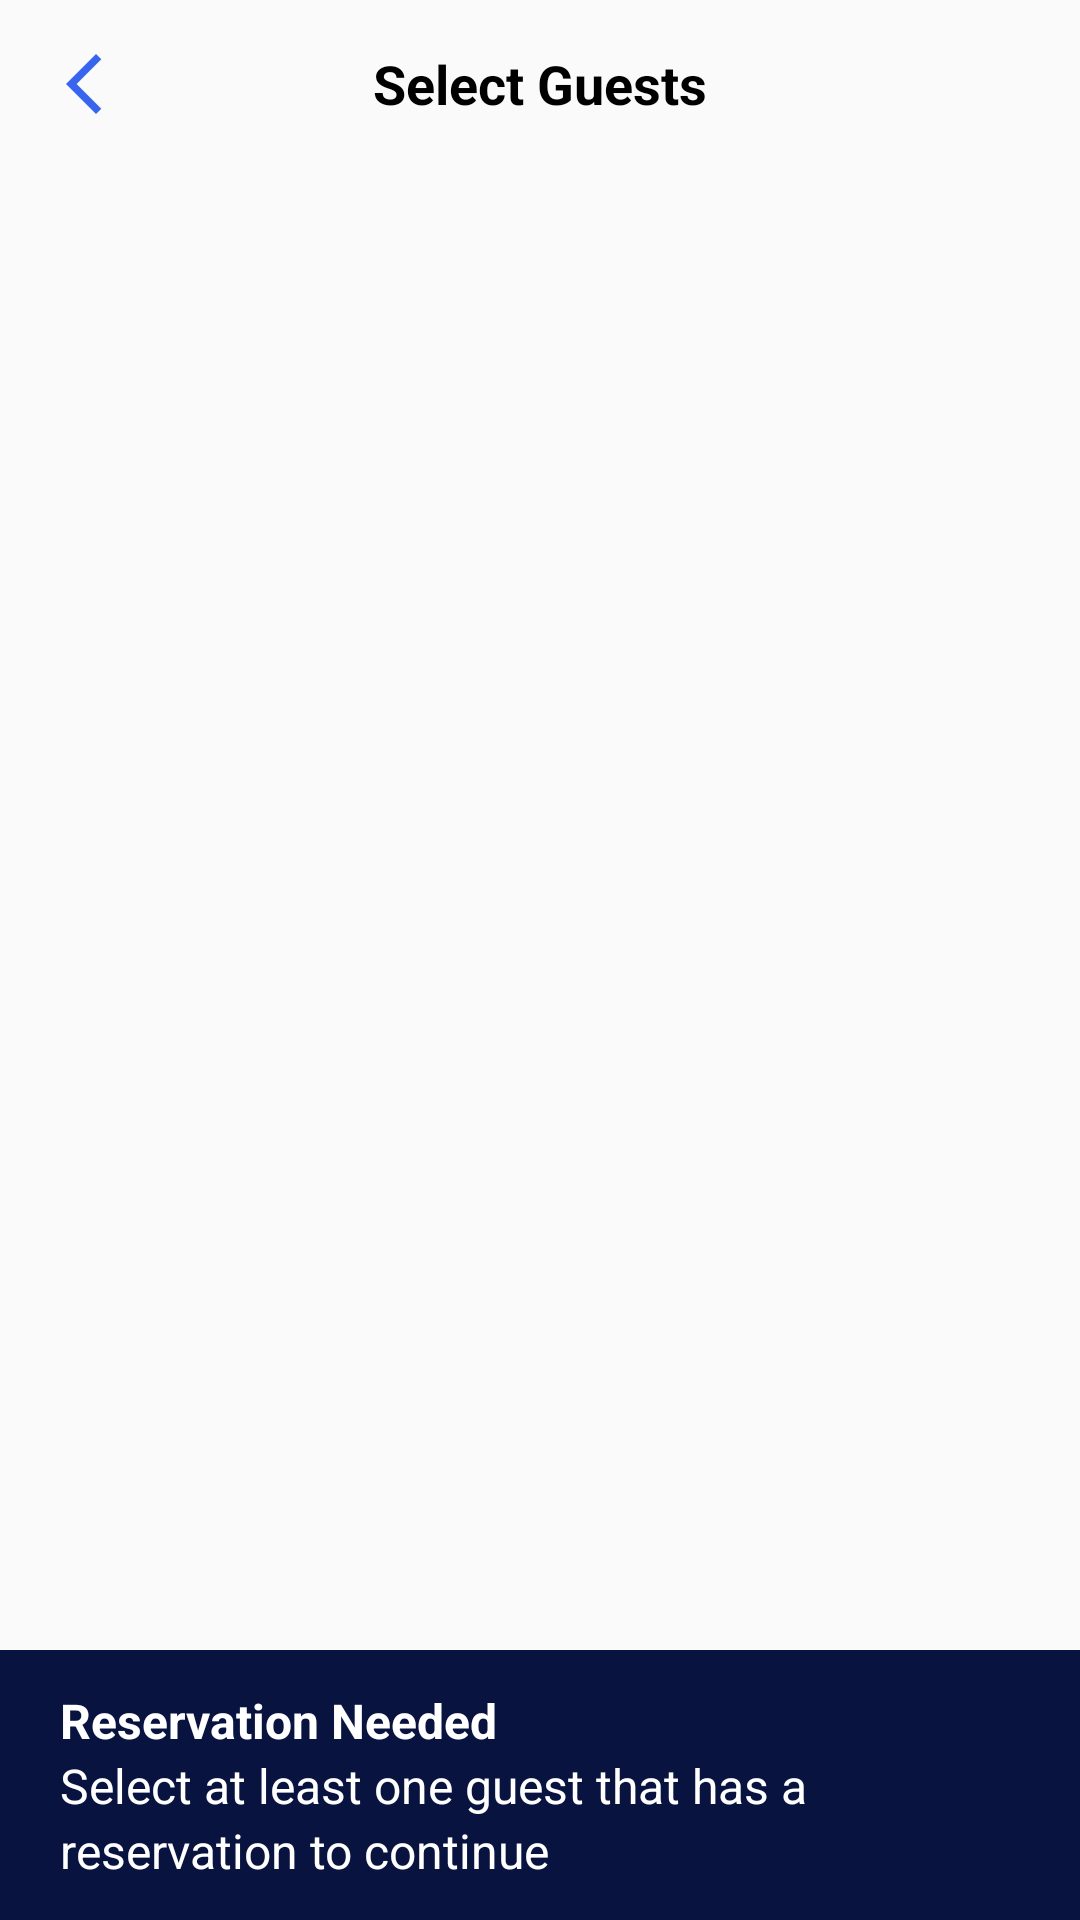

Named icons in this screenshot (1080*1920) and their centers, [x,y]:
back arrow: [83,84]
